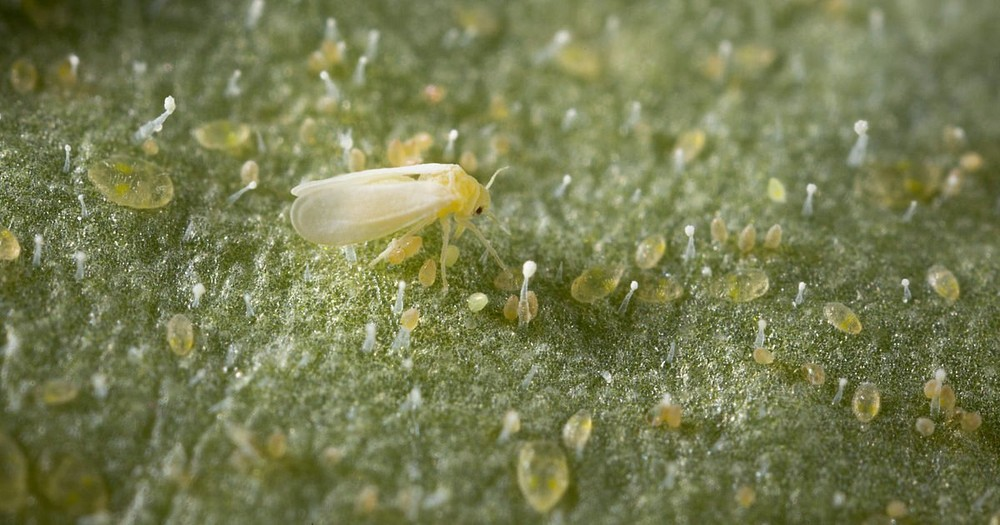Mosca Blanca: (276, 145, 524, 276)
